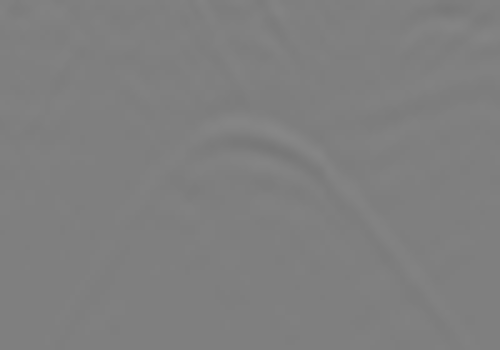hyperbola: (93, 110, 411, 341)
